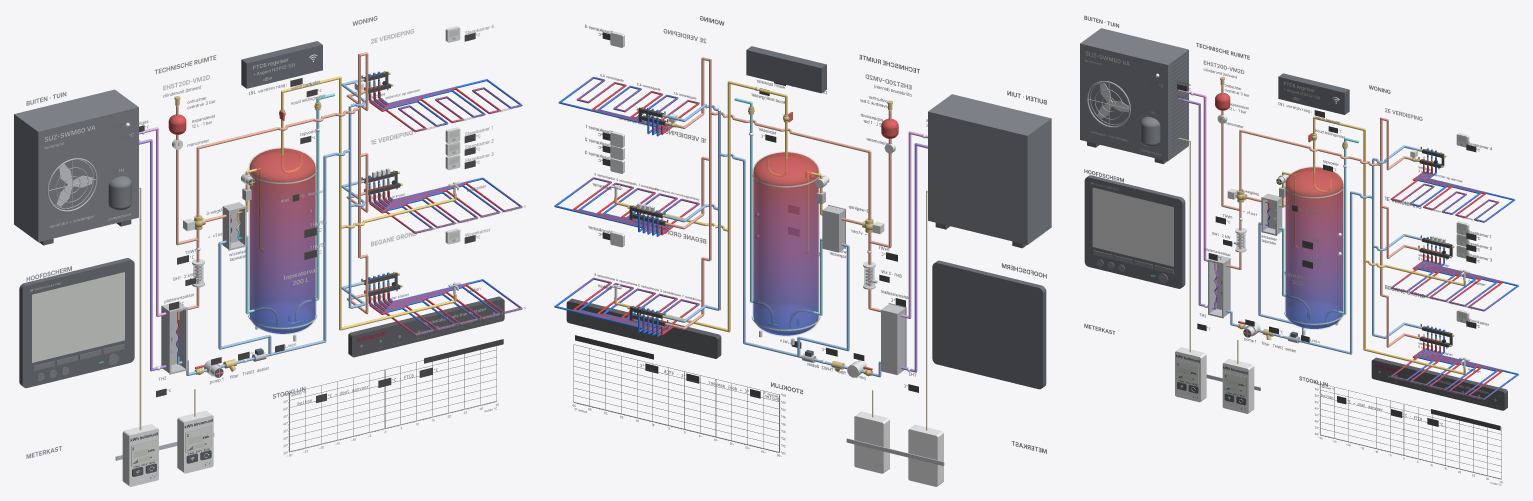
File: ecodash-3d.glb
3 views of the same model, side by side, from view 1: azimuth 30°, elevation 25°; view 2: azimuth 150°, elevation 25°; view 3: azimuth 330°, elevation 25° (orthographic). The views are drawn at different scales.
Visible parts, largest first — view 1: buitenunit_kast, tank_water, tank_mantel, labels, bedieningsscherm_lcd, bedieningsscherm, basisstation_mohlenhoff, ftc6_regelaar, stooklijn_raster, platenwisselaar, pipe_warm_tapwater, kwh_meter_binnen (+20 smaller); view 2: buitenunit_kast, bedieningsscherm, tank_mantel, tank_water, labels, basisstation_mohlenhoff, stooklijn_raster, ftc6_regelaar, kwh_meter_binnen, kwh_meter_buiten, pipe_warm_tapwater, platenwisselaar (+11 smaller); view 3: buitenunit_kast, tank_water, tank_mantel, labels, bedieningsscherm_lcd, bedieningsscherm, basisstation_mohlenhoff, ftc6_regelaar, stooklijn_raster, pipe_warm_tapwater, platenwisselaar, kwh_meter_binnen (+16 smaller).
Part boxes in pixels (x1,y1,x2,y2): buitenunit_kast: [14, 89, 138, 242]; tank_water: [249, 148, 315, 333]; tank_mantel: [248, 147, 316, 334]; labels: [26, 16, 525, 478]; bedieningsscherm_lcd: [32, 272, 124, 362]; bedieningsscherm: [19, 258, 134, 388]; basisstation_mohlenhoff: [348, 296, 504, 357]; ftc6_regelaar: [241, 41, 322, 88]; stooklijn_raster: [289, 346, 496, 447]; platenwisselaar: [161, 302, 187, 374]; pipe_warm_tapwater: [281, 76, 456, 330]; kwh_meter_binnen: [177, 410, 213, 473]; buitenunit_kast: [928, 94, 1051, 244]; bedieningsscherm: [932, 260, 1046, 389]; tank_mantel: [752, 151, 819, 336]; tank_water: [753, 152, 818, 335]; labels: [572, 16, 1046, 456]; basisstation_mohlenhoff: [566, 298, 721, 358]; stooklijn_raster: [573, 344, 779, 452]; ftc6_regelaar: [746, 46, 826, 93]; kwh_meter_binnen: [854, 411, 889, 473]; kwh_meter_buiten: [908, 424, 943, 486]; pipe_warm_tapwater: [614, 81, 787, 332]; platenwisselaar: [881, 303, 906, 375]; buitenunit_kast: [1080, 28, 1188, 161]; tank_water: [1285, 167, 1343, 328]; tank_mantel: [1285, 166, 1343, 329]; labels: [1084, 15, 1502, 485]; bedieningsscherm_lcd: [1092, 187, 1173, 266]; bedieningsscherm: [1084, 175, 1185, 288]; basisstation_mohlenhoff: [1371, 357, 1507, 410]; ftc6_regelaar: [1278, 73, 1349, 114]; stooklijn_raster: [1321, 383, 1501, 478]; pipe_warm_tapwater: [1313, 116, 1465, 374]; platenwisselaar: [1208, 255, 1230, 318]; kwh_meter_binnen: [1222, 359, 1254, 413].
Bounding box in the file's own units: 1032 × 878 × 174.
Materials: 192 (1 with a texture image).
